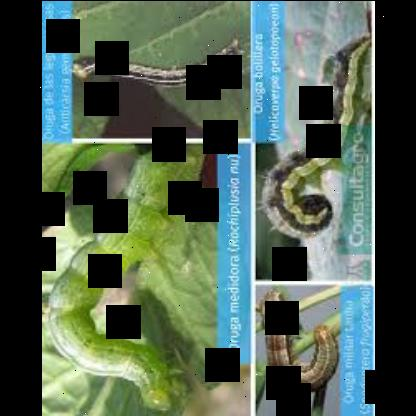oruga: (45, 146, 217, 412), (260, 36, 356, 256), (71, 29, 245, 87), (256, 288, 338, 394)
